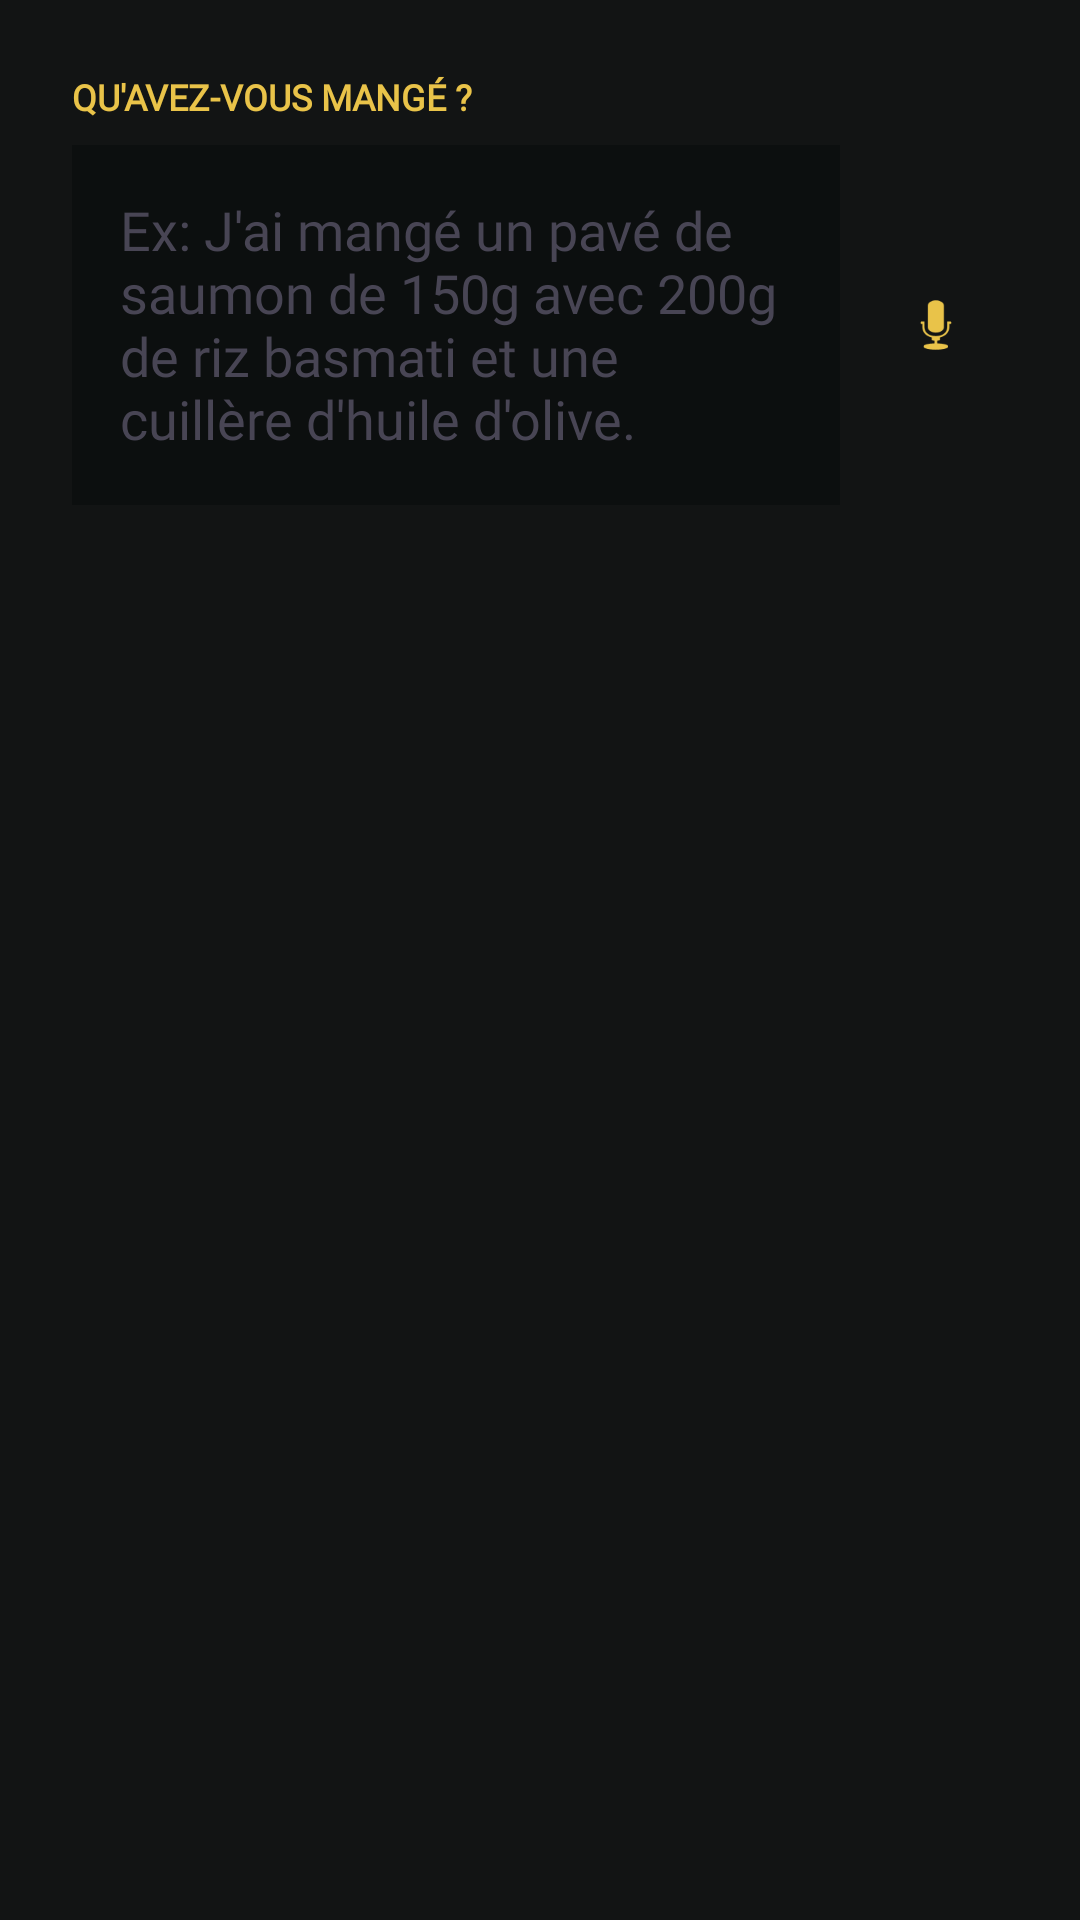

Icons on this 1080 x 1920 Android screen, each with the point to tap as point (x, y):
speak now: point (936, 325)
